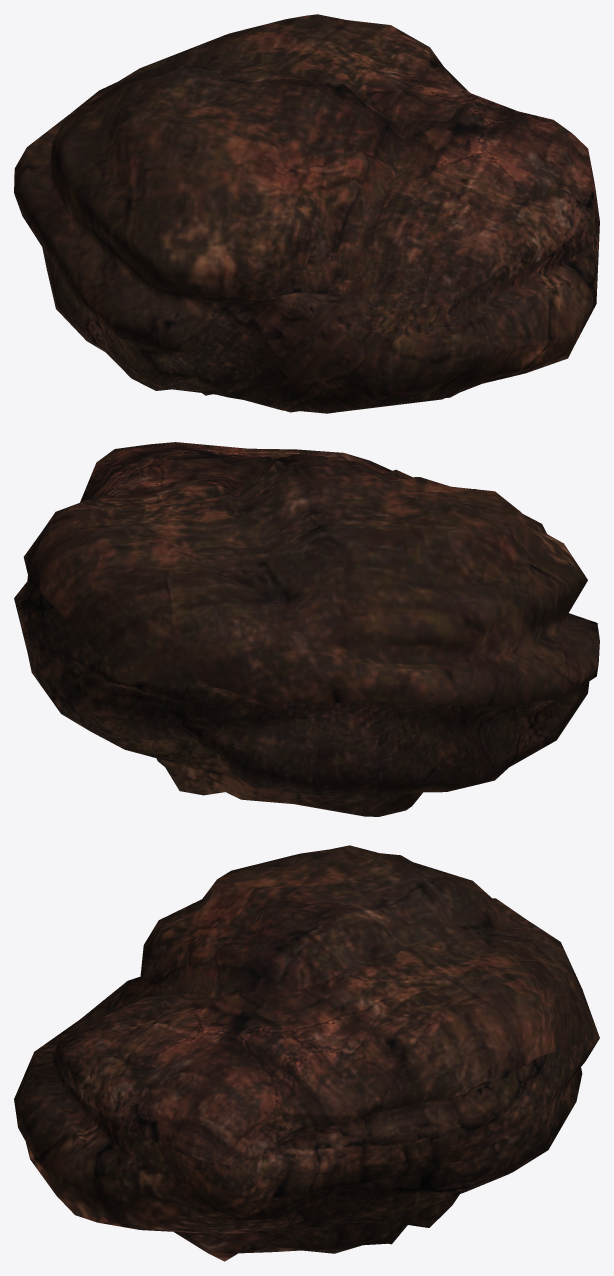
The model's file is rock_red_small03_projected.dae.
3 renders of one model, top to bottom at view 1: azimuth 30°, elevation 25°; view 2: azimuth 150°, elevation 25°; view 3: azimuth 270°, elevation 25°, orthographic. The views are drawn at different scales.
Visible parts, largest first — view 1: Mesh_01; view 2: Mesh_01; view 3: Mesh_01.
Part boxes in pixels (<box>): Mesh_01: <box>14,14,599,413</box>; Mesh_01: <box>14,442,599,816</box>; Mesh_01: <box>14,845,599,1261</box>.
Bounding box in the file's own units: 3.01 × 1.76 × 3.09.
